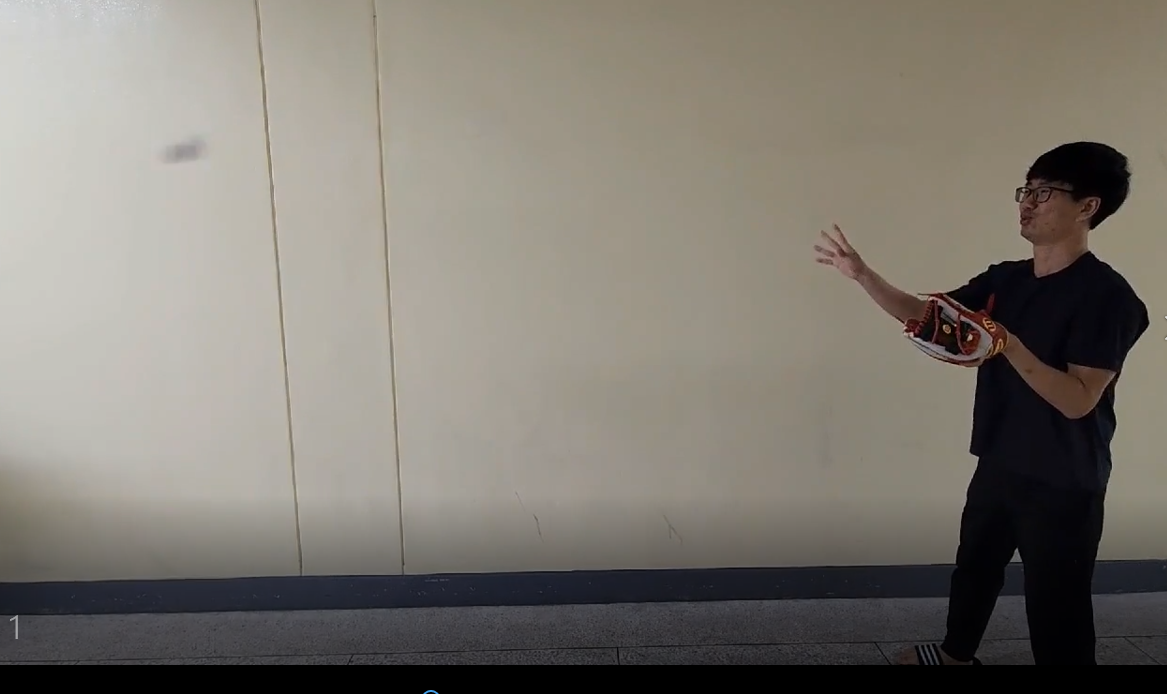ball: (158, 131, 206, 163)
